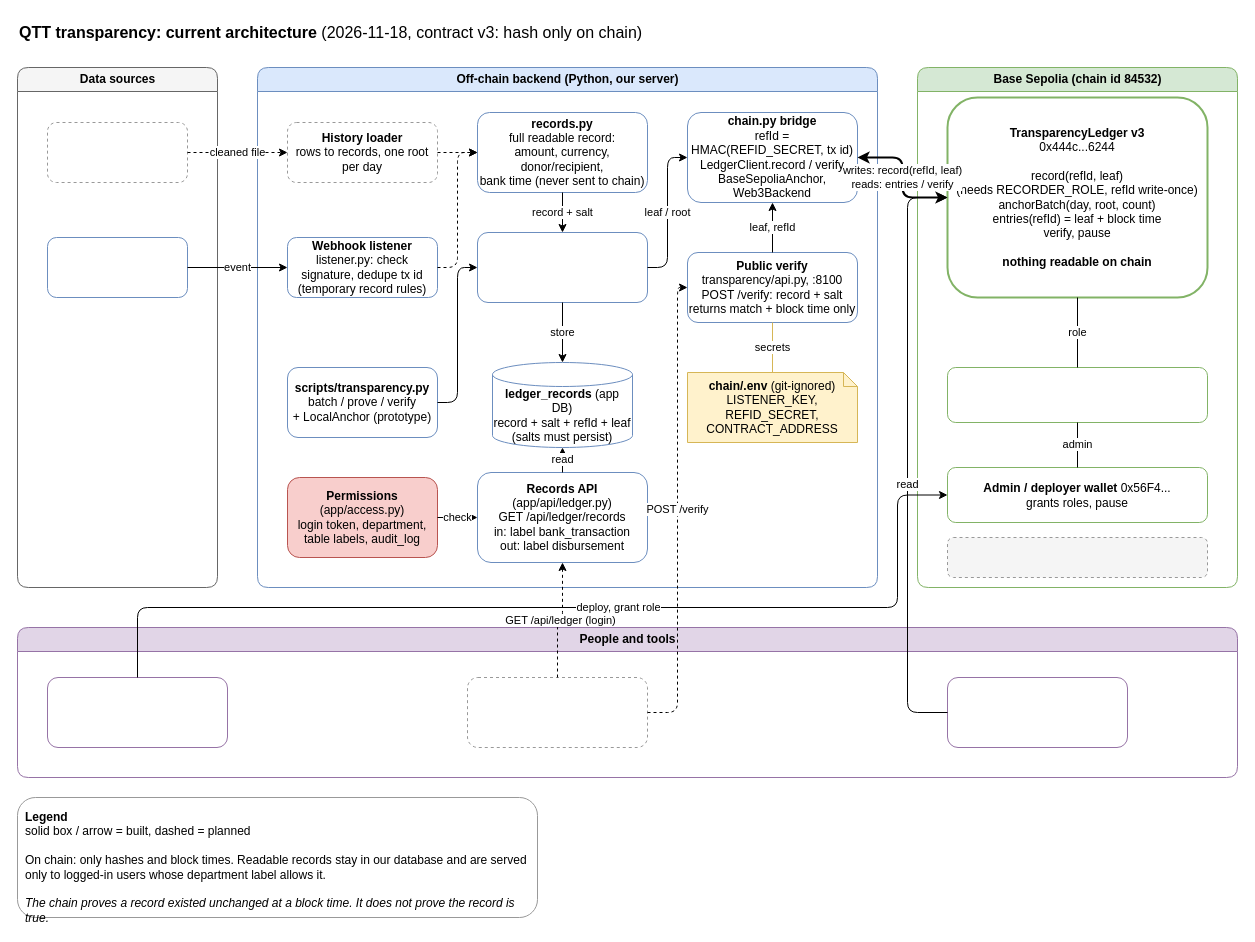
Image size: 1255x942. Some labels were removed from this diagram. The centre of each missing label's shape, as x and y in pixels:
Anyone block explorer shows only hashes + block times: (1037,712)
Bank webhook SePay (tested with MB, in + out): (117,267)
Dashboard + verify screen Tuan: lists via /api/ledger, checks via POST /verify: (557,712)
Hardhat (chain/) deploy.js, grant-recorder.js, 10 contract tests (owner): (137,712)
Kaggle history file cleaned by Dong: (117,152)
Listener wallet 0xC16e... RECORDER_ROLE, signs writes: (1077,394)
merkle.py leaf = SHA-256(0x00, salt, record) daily Merkle root: (562,267)
v2 0xC20a...fdf3 retired (holds 1 test entry in plain text): (1077,557)
